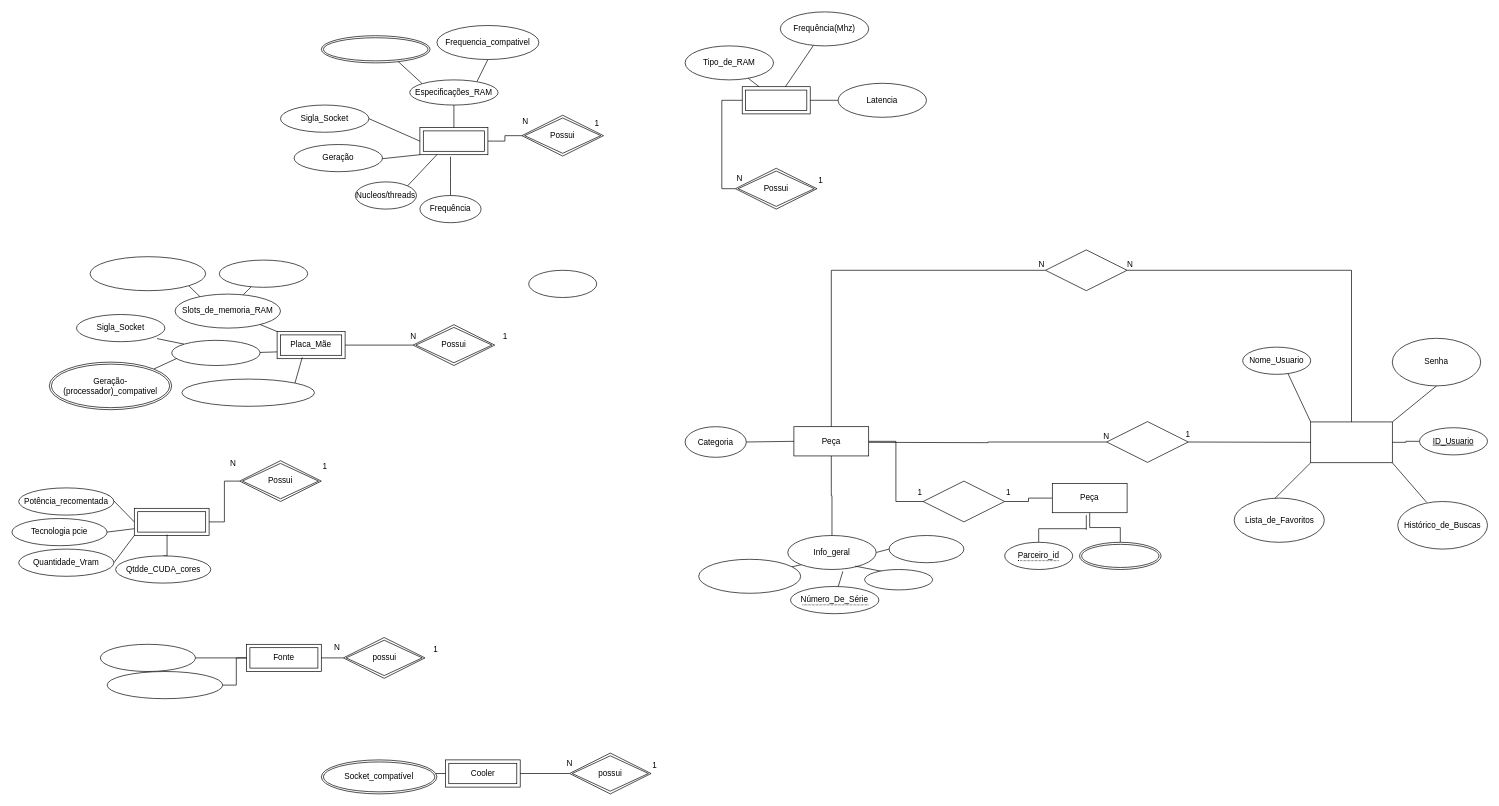
The diagram is 1499 pixels wide and 806 high, and some of its shapes have lost their labels. Here are the shapes that lost their labels. From the top down, the centre of each, then its label:
the point at 375,49: Tipo_RAM_compativel
the point at 776,100: Memoria_RAM
the point at 453,141: Processador
the point at 147,273: Tipo_de_RAM_Compaível
the point at 263,273: Qtde_de_slots
the point at 562,284: Attribute
the point at 1086,270: Consulta*
the point at 215,353: Socket_do_processador
the point at 247,392: Tecnologia_pcie_compativel
the point at 1147,441: Administra
the point at 1351,442: Usuário
the point at 963,501: Disponibiliza
the point at 171,522: Placa_de_Vídeo
the point at 926,549: Distribuidor (Parceiro)
the point at 1120,556: Peça_vinculada
the point at 749,576: Nome_do_componente
the point at 898,579: Fabricante
the point at 148,658: Potência
the point at 164,685: Classificação_de_eficiência
